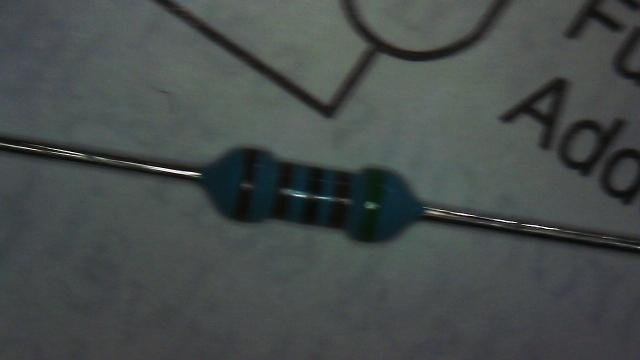black: (302, 167, 324, 224)
brown: (234, 148, 260, 220), (273, 162, 294, 219), (330, 171, 350, 226)
green: (358, 169, 386, 241)
resistor: (198, 135, 428, 253)
